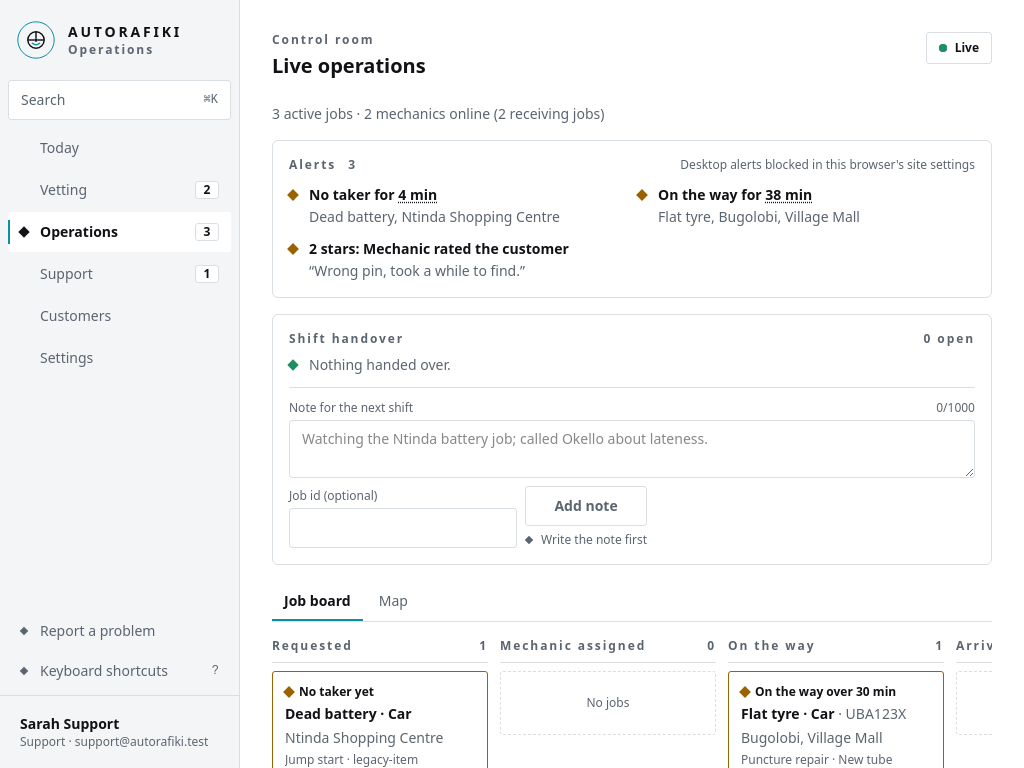
Test: shift handover › support writes a note for the next shift, ops marks it handled
The width and height of the screenshot is (1024, 768).
Expected: the text "Nothing handed over." is shown, [287, 355, 451, 374]
Expected: the button "Add note" is disabled, [525, 486, 647, 526]
Type "Customer at Bugolobi called twice; mechanic stuck in traffic." into the text box labelled "Note for the next shift 0/1000" at [632, 449], box [289, 420, 975, 478]
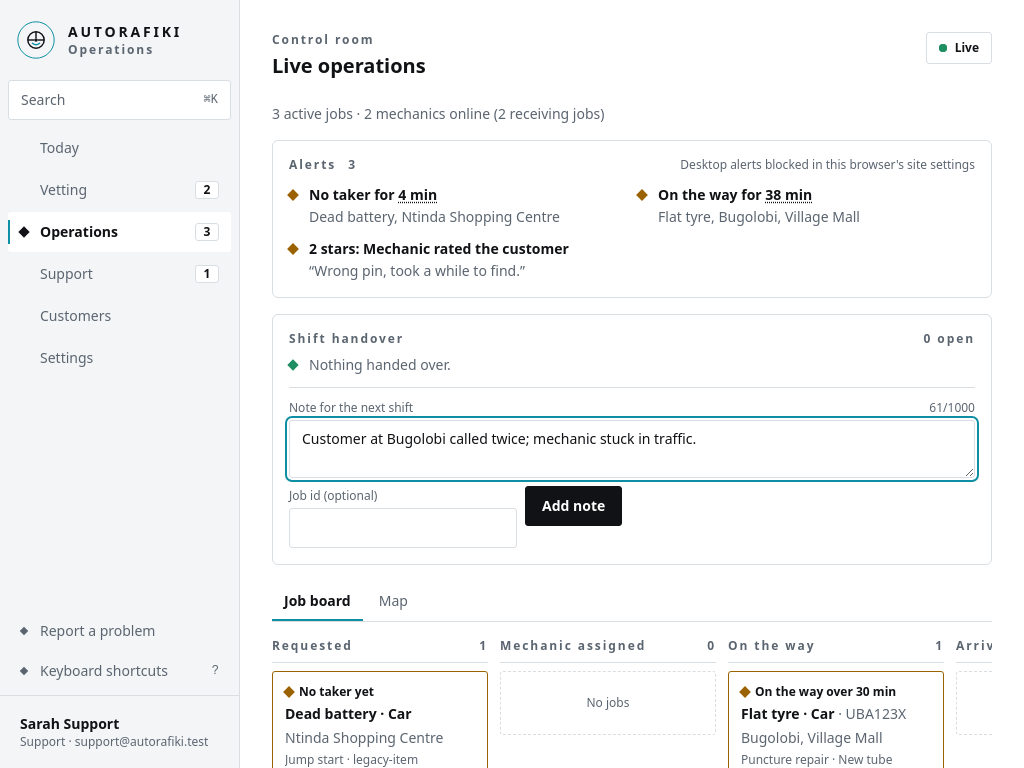
Type "job_enroute_late" into the field labelled "Job id (optional)" at [403, 528], box [289, 508, 517, 548]
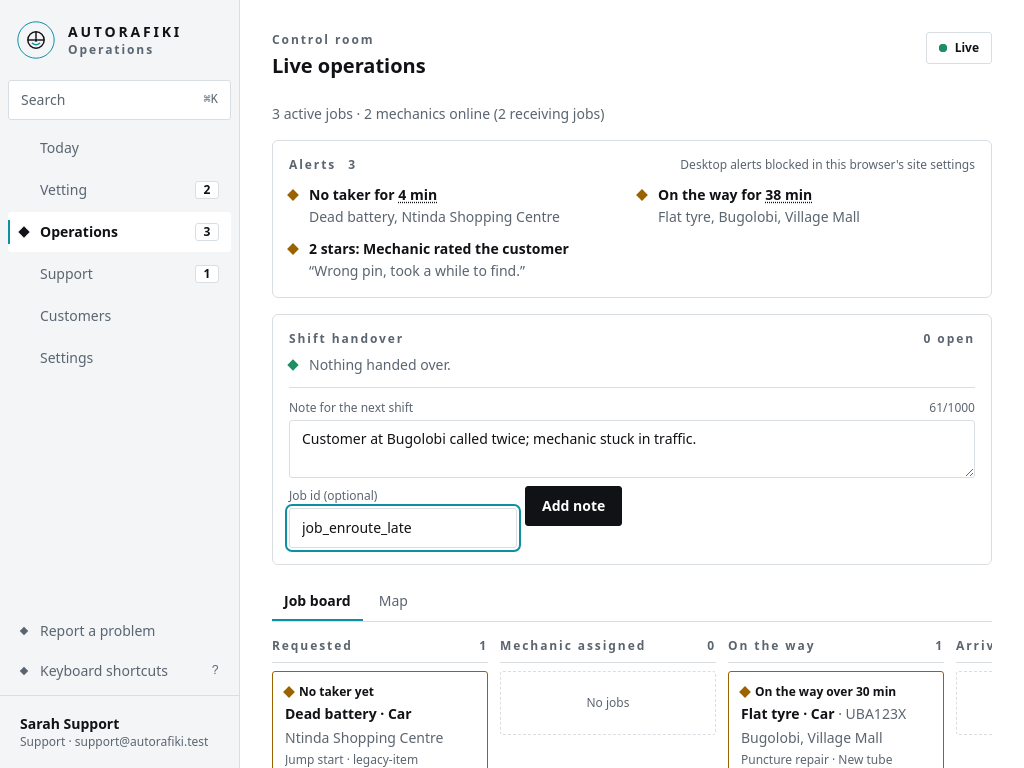
Click the button "Add note" at [574, 506], box [525, 486, 622, 526]
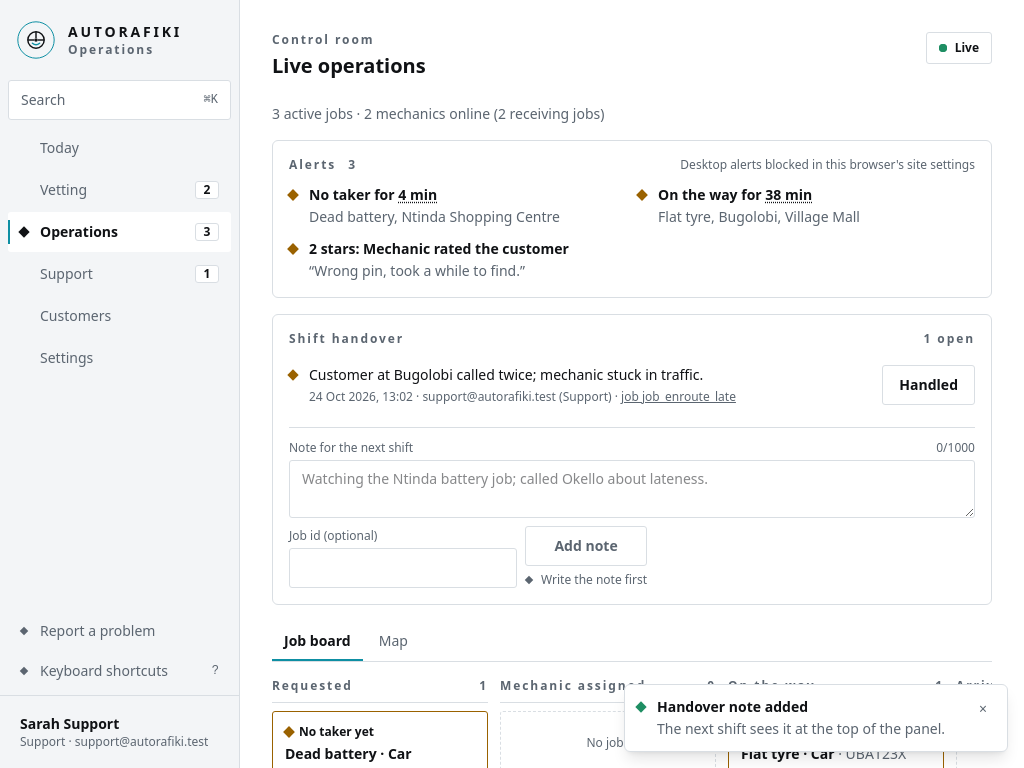
Expected: the element "Shift handover" shows "1 open", [272, 314, 992, 605]
Click the button with aria-label "Mark handled" at [929, 385], box [882, 365, 975, 405]
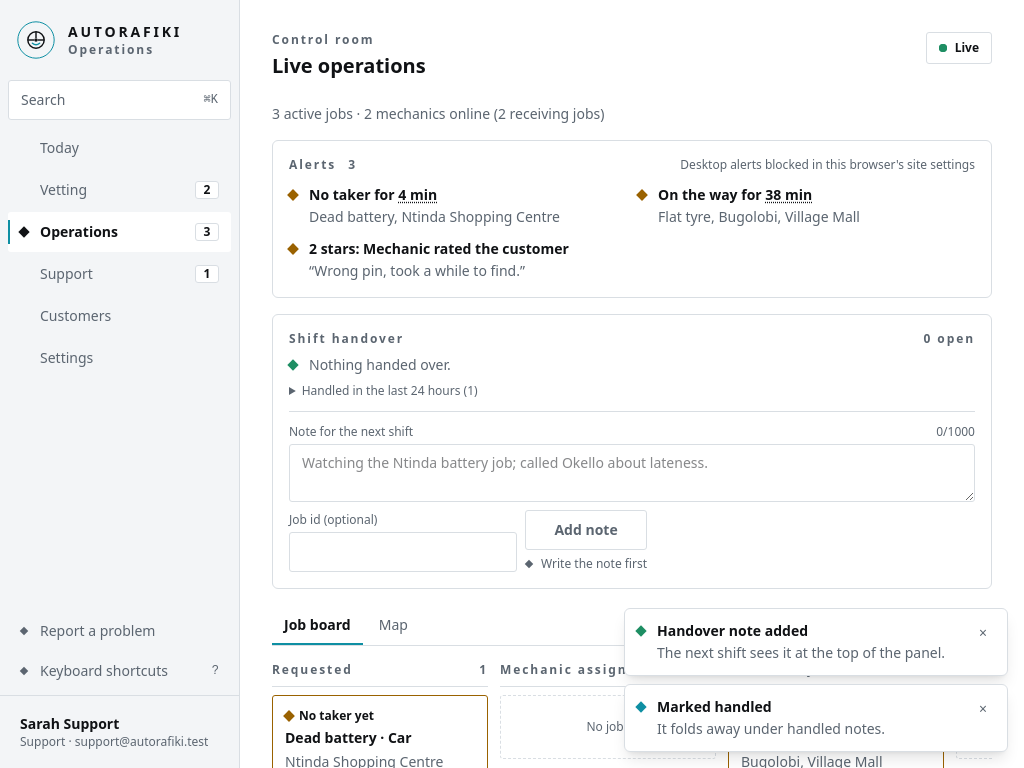
Expected: the text "Nothing handed over." is shown, [287, 355, 451, 374]
Expected: the heading "Handled in the last 24 hours (1)" is shown, [302, 382, 478, 399]
